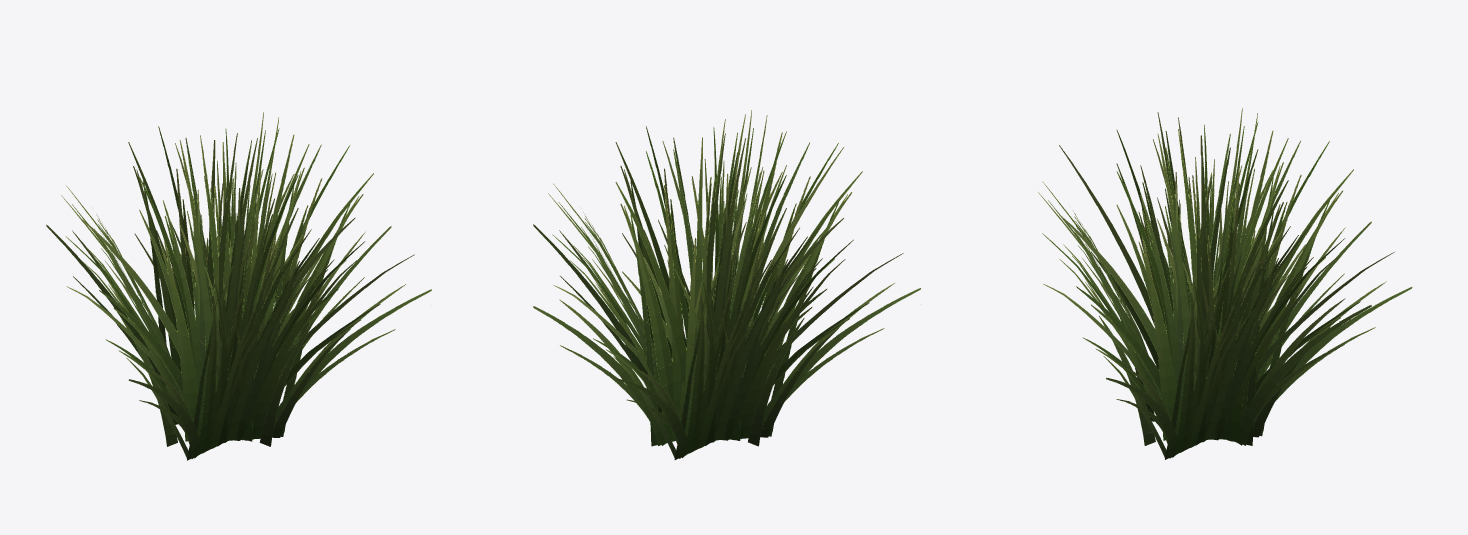
The model's file is grass_tuft_green.glb.
3 renders of one model, left to right at view 1: azimuth 30°, elevation 25°; view 2: azimuth 150°, elevation 25°; view 3: azimuth 270°, elevation 25°, orthographic.
Visible parts, largest first — view 1: grass_tuft_green; view 2: grass_tuft_green; view 3: grass_tuft_green.
Part boxes in pixels (<box>): grass_tuft_green: <box>46,112,431,460</box>; grass_tuft_green: <box>533,110,920,459</box>; grass_tuft_green: <box>1038,108,1412,459</box>.
Size of the model in its own units: 0.5857 by 0.4259 by 0.5072.
Materials: 1 (1 with a texture image).
